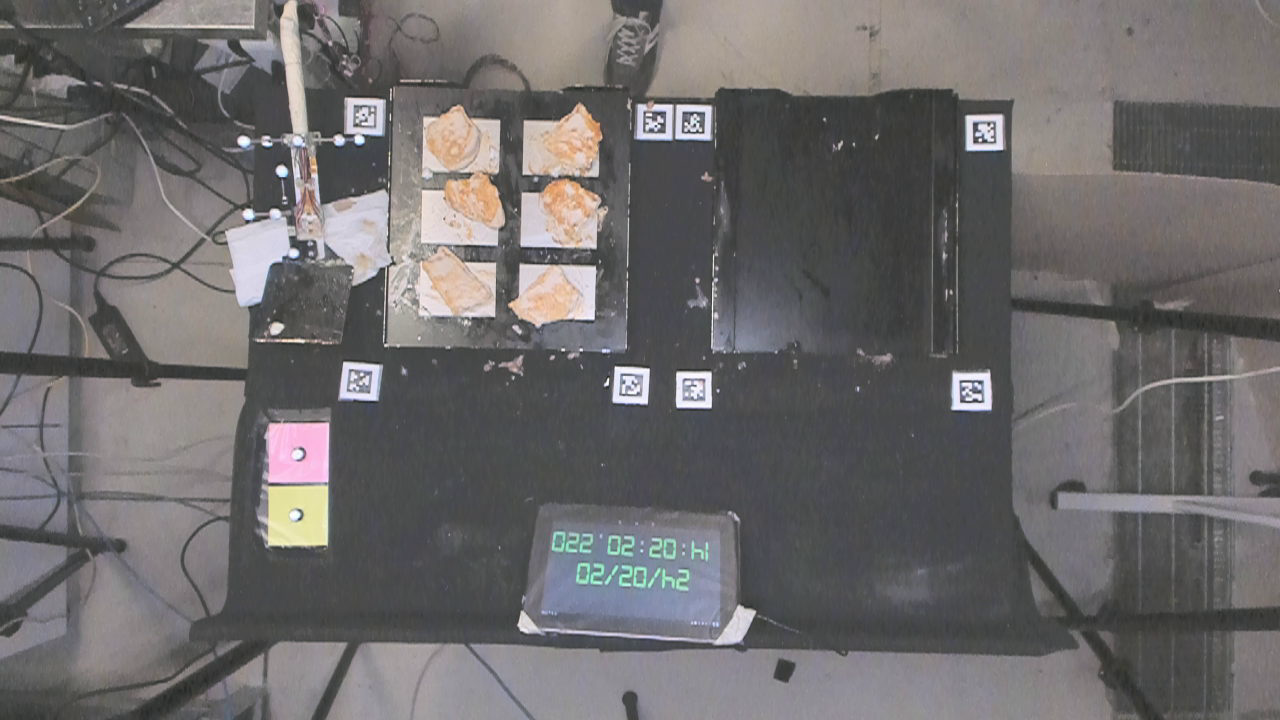chicken: (418, 244, 490, 317), (502, 267, 585, 329), (535, 104, 605, 174), (437, 163, 507, 231), (537, 178, 604, 243), (420, 101, 480, 166)
marker: (265, 421, 333, 485)
